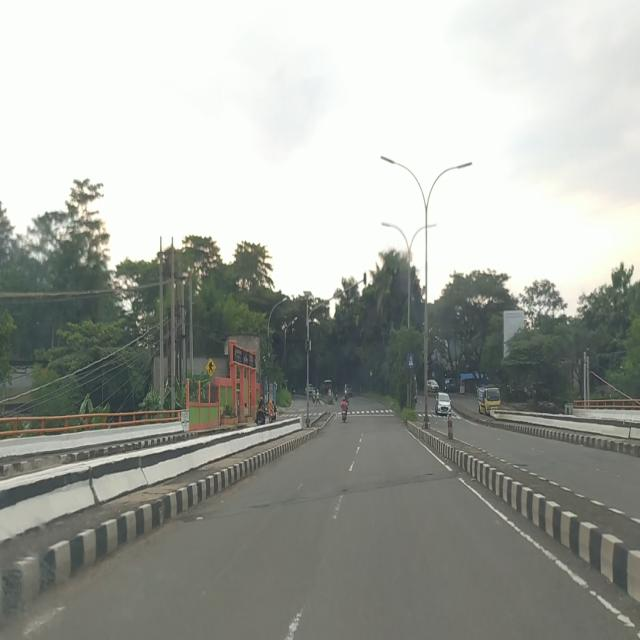Sewer Cover: (245, 498, 292, 510)
